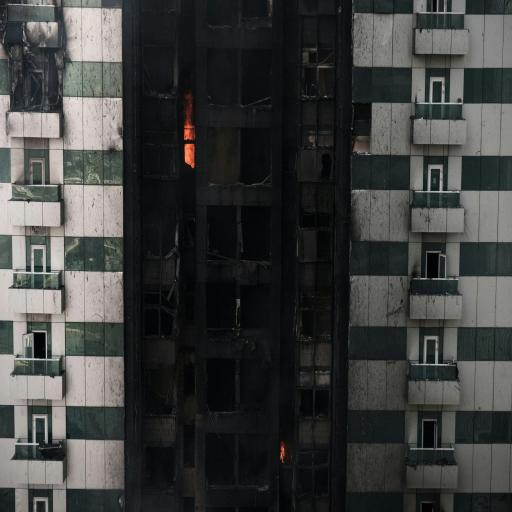buildingfire: (124, 8, 372, 492), (0, 24, 78, 117)
